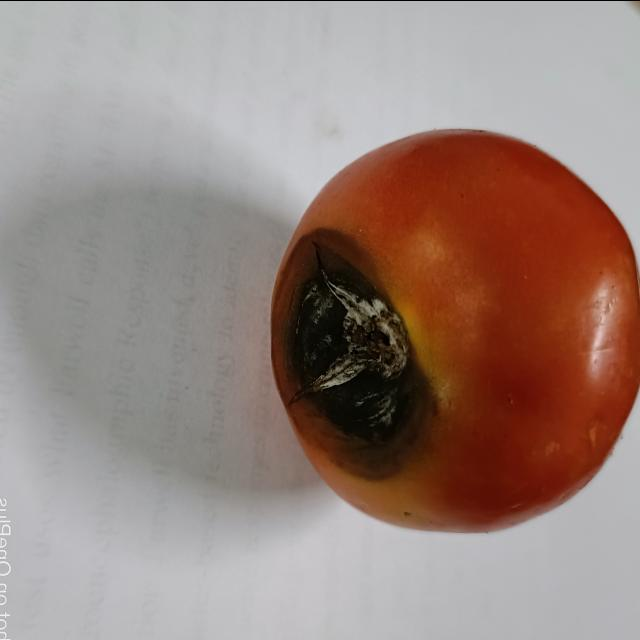Anthrocnose: (275, 229, 441, 486)
